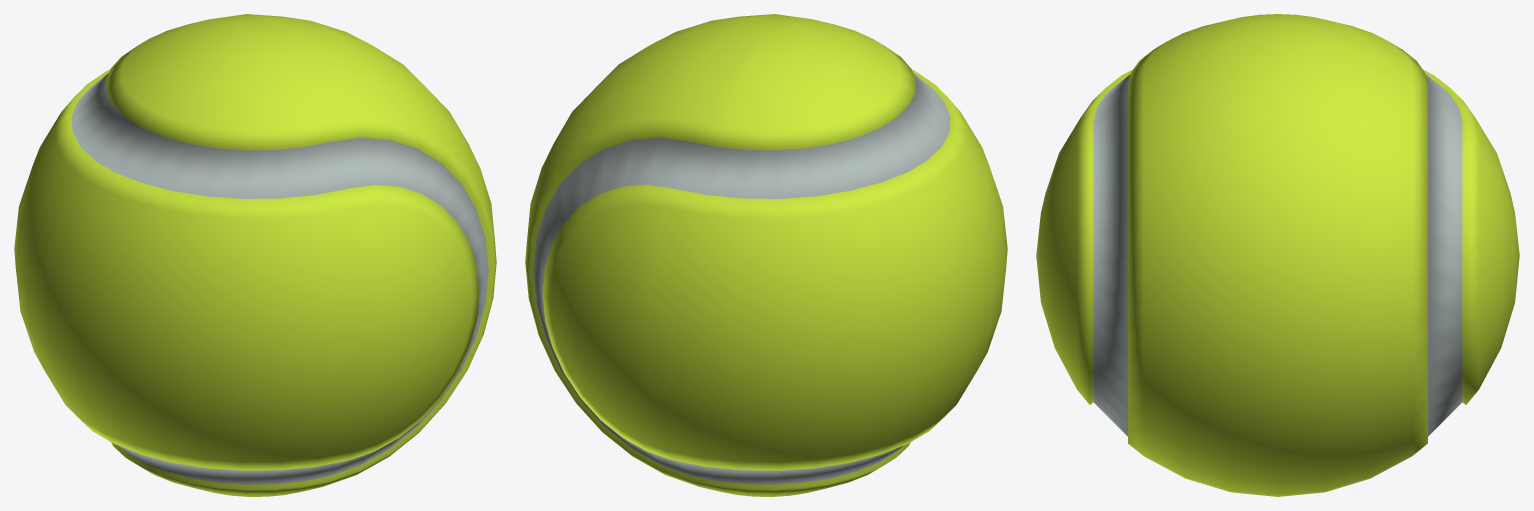
The model's file is Raqueta Anim.fbx.
3 views of the same model, side by side, from view 1: azimuth 30°, elevation 25°; view 2: azimuth 150°, elevation 25°; view 3: azimuth 270°, elevation 25° (orthographic).
Visible parts, largest first — view 1: Sphere; view 2: Sphere; view 3: Sphere.
Part boxes in pixels (x1,y1,x2,y2): Sphere: (14,14,496,496); Sphere: (525,14,1007,496); Sphere: (1036,14,1519,496).
Size of the model in its own units: 200 by 200 by 200.
